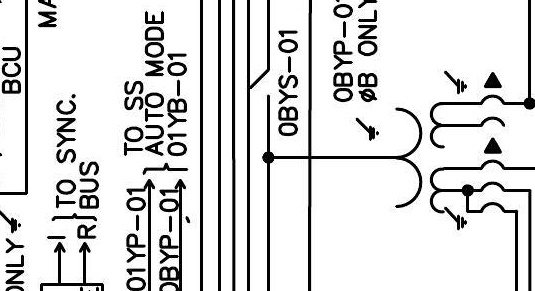115_ds: (250, 69, 271, 99)
115_vt_1p: (354, 70, 506, 232)
